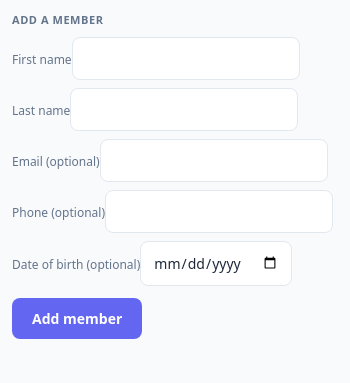
Test case: AddMemberForm › no contact 409: retries silently as a link request by personId
In the field labelled "First name": (186, 58) [72,36,300,80], type "Jo"
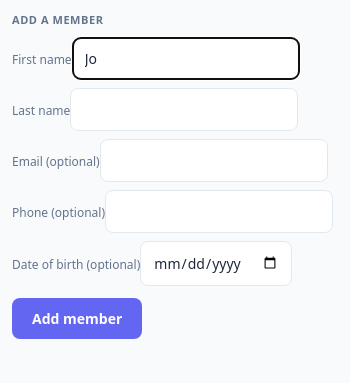
In the field labelled "Last name": (184, 109) [70,88,298,130], type "Doe"
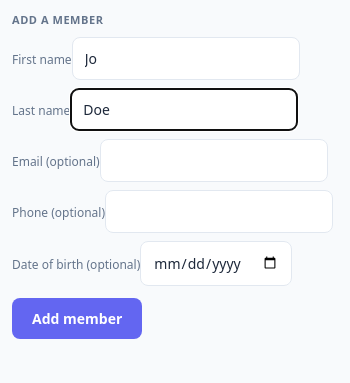
Click the button "Add member": (77, 318) [12,298,142,338]
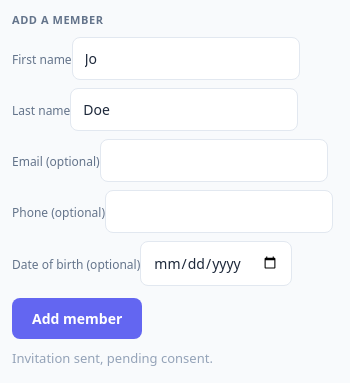
Check: the text "Invitation sent, pending consent." is shown, box [12,348,213,366]
